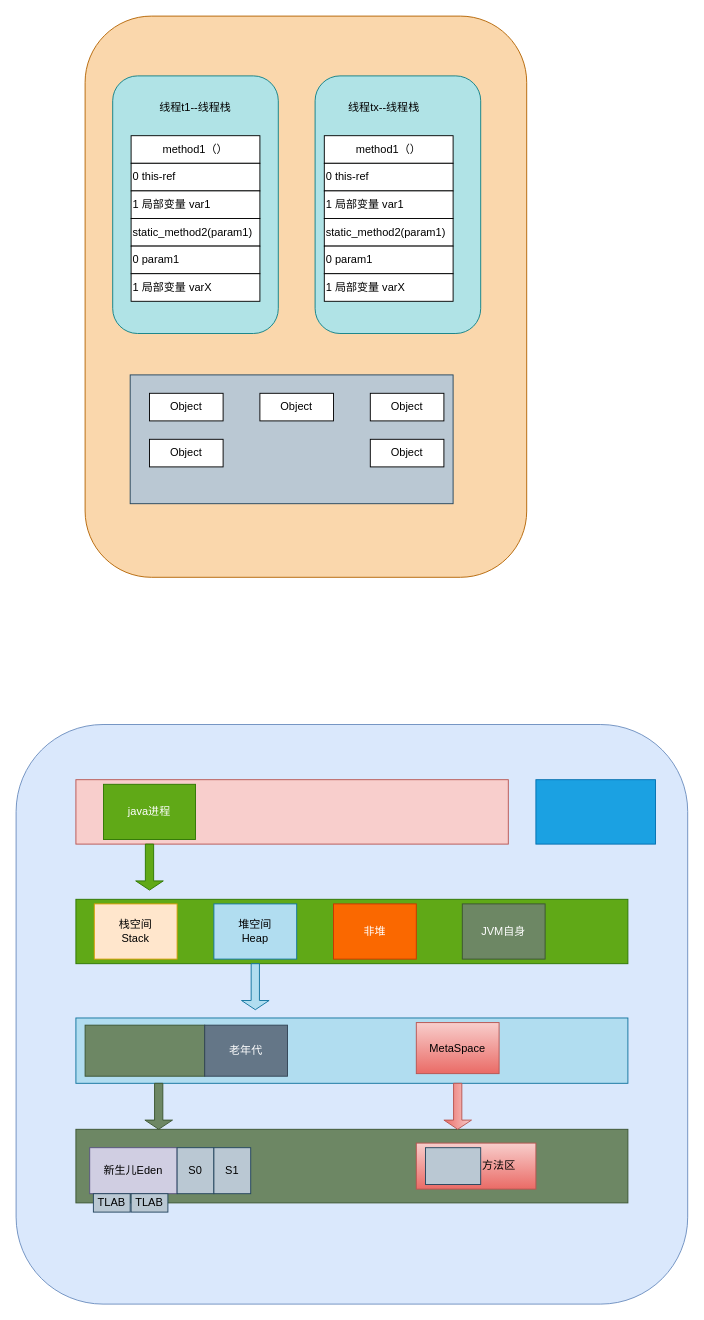
The diagram is 704 pixels wide and 1320 high, and some of its shapes have lost their labels. Here are the shapes that lost their labels. From the top down, the box of each, then its label:
(129, 374, 453, 504): 堆内存
(75, 779, 508, 844): 进程 1.2.3...n
(535, 779, 656, 844): 操作系统
(84, 1024, 205, 1076): 新生代
(425, 1147, 481, 1184): 常量区
